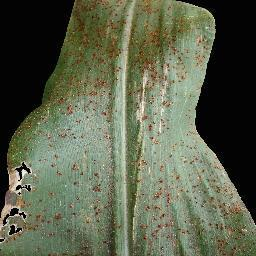Corn_Common_Rust: (0, 98, 256, 256), (46, 1, 220, 99)
